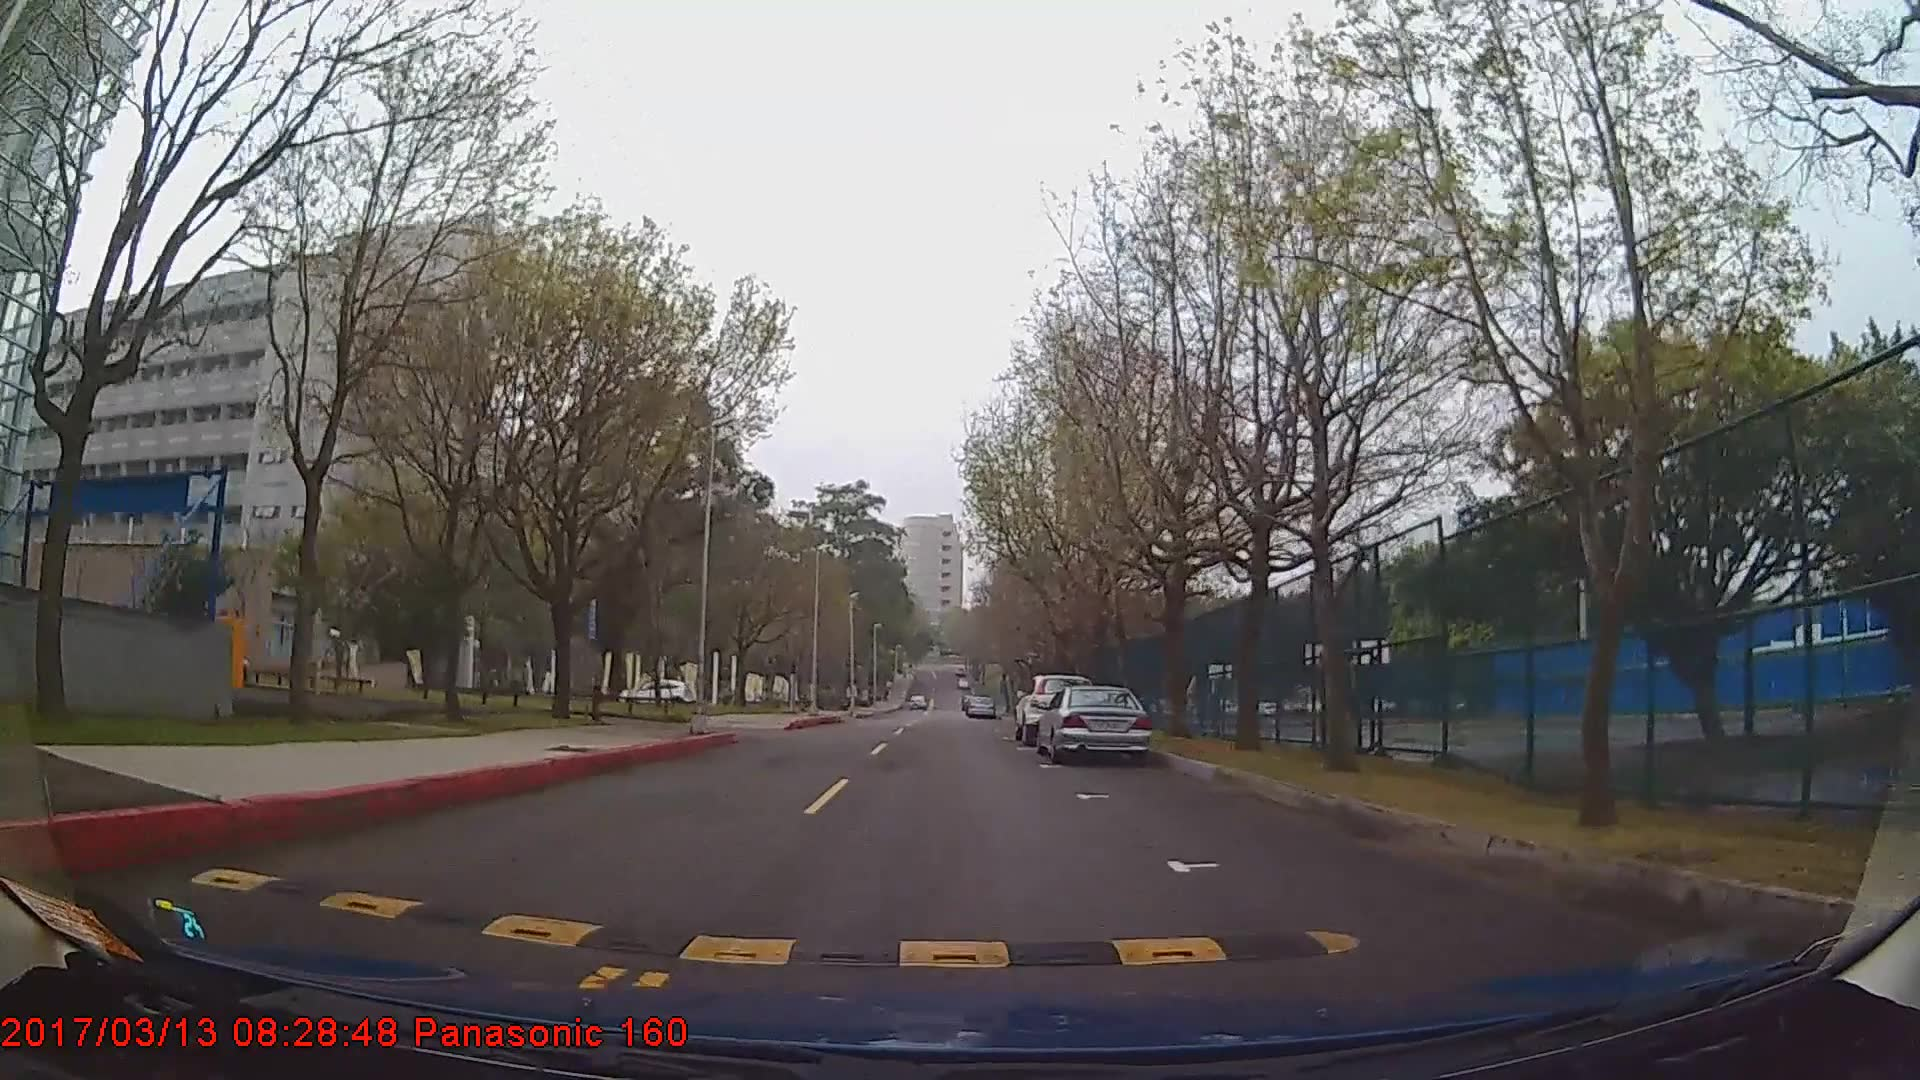vehicle: (1036, 683, 1153, 762), (1015, 674, 1096, 746), (965, 695, 996, 716)
